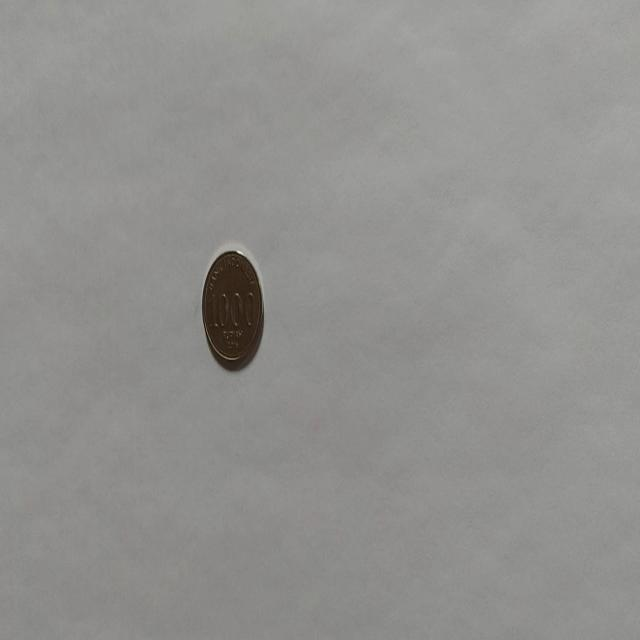seribu rupiah koin: (200, 248, 264, 370)
